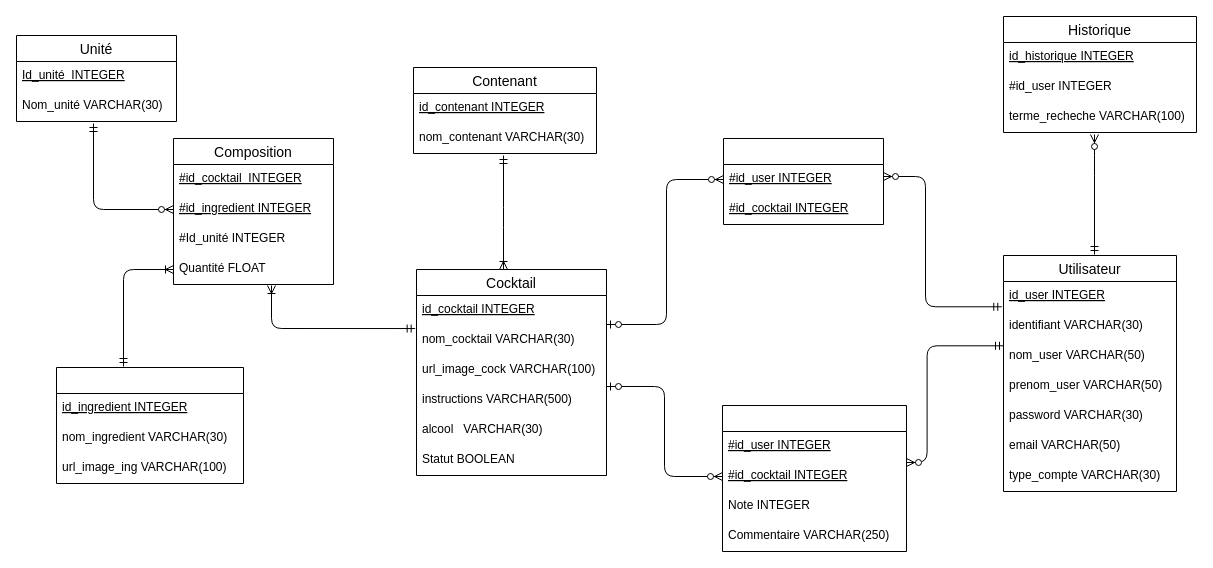
The diagram is 1213 pixels wide and 568 high, and some of its shapes have lost their labels. Each missing label, with the box of its shape:
Avis: (722, 404, 906, 552)
Favoris: (722, 138, 884, 224)
Ingrédient: (56, 366, 244, 484)
